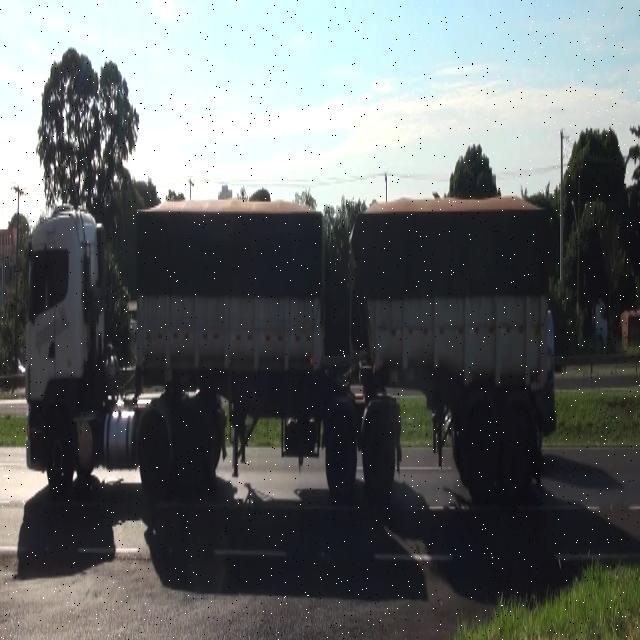-axle: (176, 398, 212, 494), (323, 411, 358, 508), (361, 404, 395, 499), (463, 399, 498, 491), (139, 422, 173, 509), (500, 399, 533, 484), (45, 409, 73, 493)
